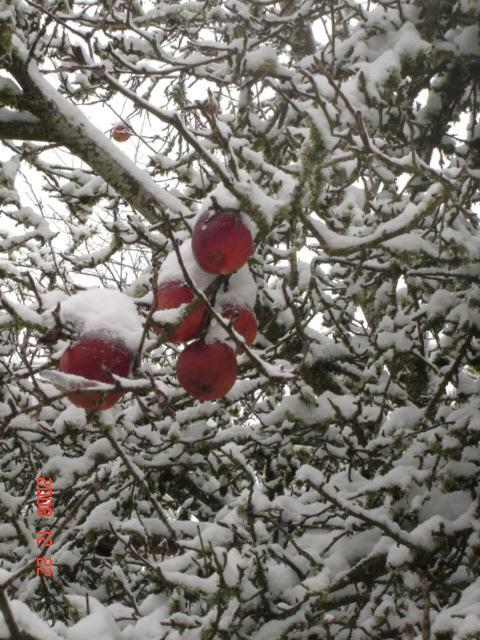apple: (59, 338, 126, 407), (192, 204, 254, 275), (194, 206, 251, 275), (176, 339, 236, 401), (152, 282, 203, 340), (228, 306, 256, 355)
